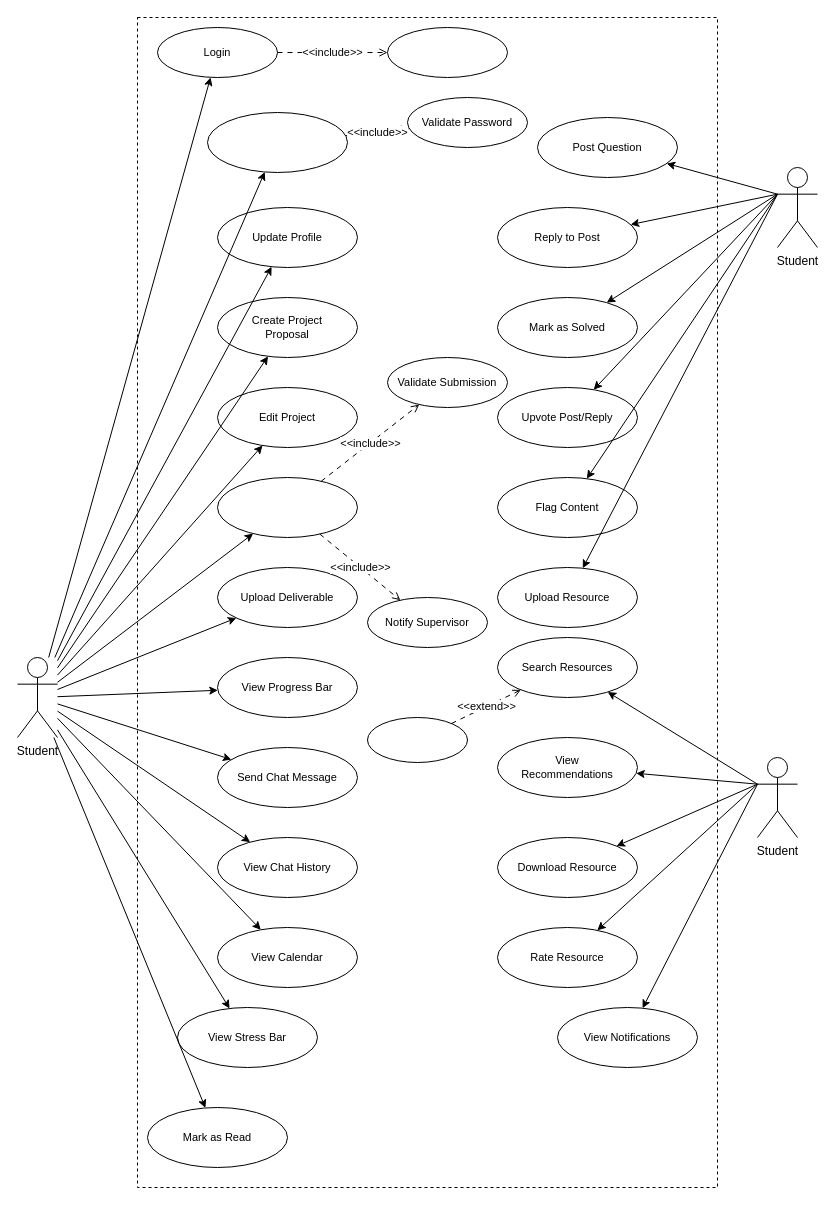
This 835x1205 diagram has some shape labels left out. The centre of each missing label's shape, as x and y in pixels:
Authenticate User: (447,52)
Change Password (First Login): (277,142)
Filter Results: (417,739)
Submit for Review: (287,507)
